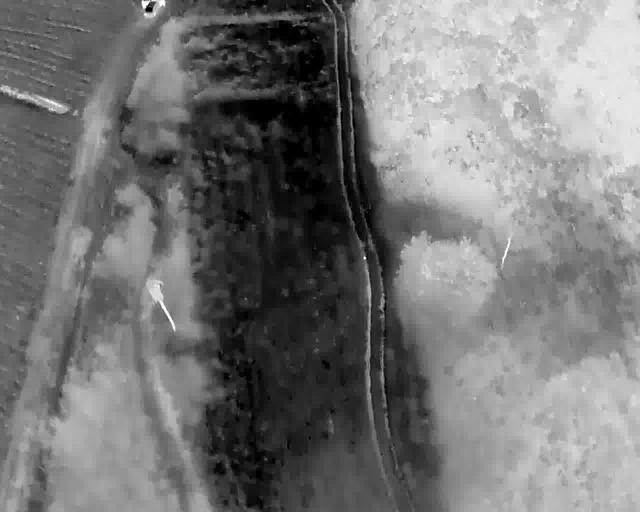car: (144, 0, 158, 15)
person: (158, 0, 162, 8), (161, 0, 165, 6), (141, 0, 144, 8)
